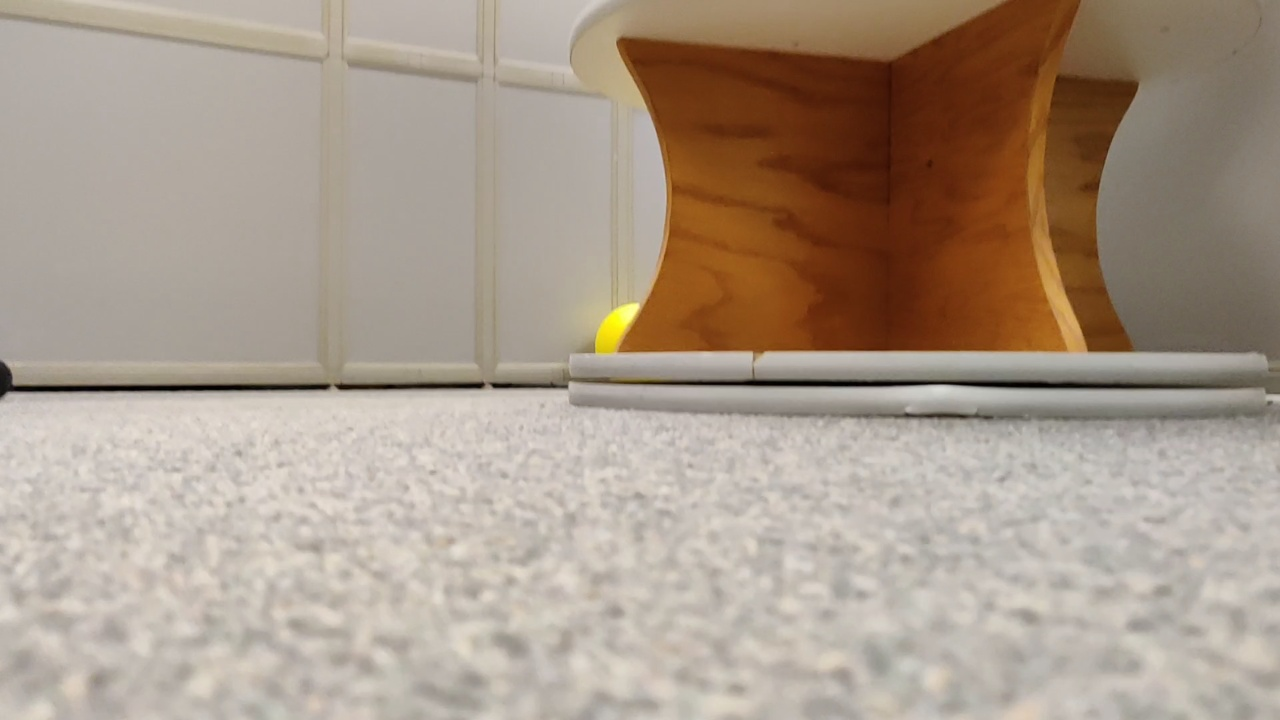Ball: (596, 306, 646, 359)
